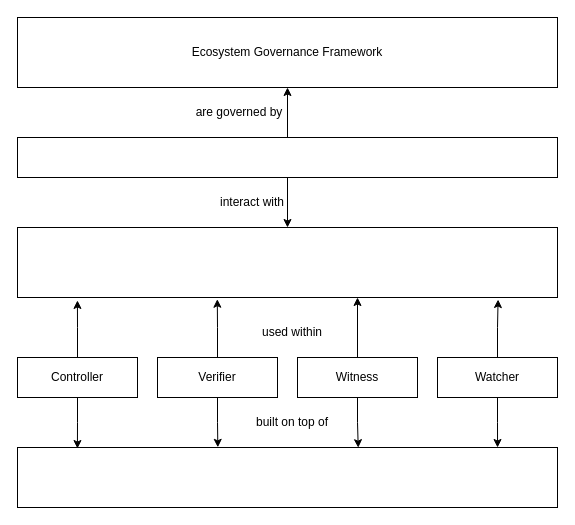
The diagram is 575 pixels wide and 525 high, and some of its shapes have lost their labels. The shapes that lost their labels are listed below. From the top down, each one's centre as x and y in pixels, then its label:
At (287,157): "Network Participants".
At (287,262): "Ambient Infrastructure".
At (287,477): "DKMS Core Library".
